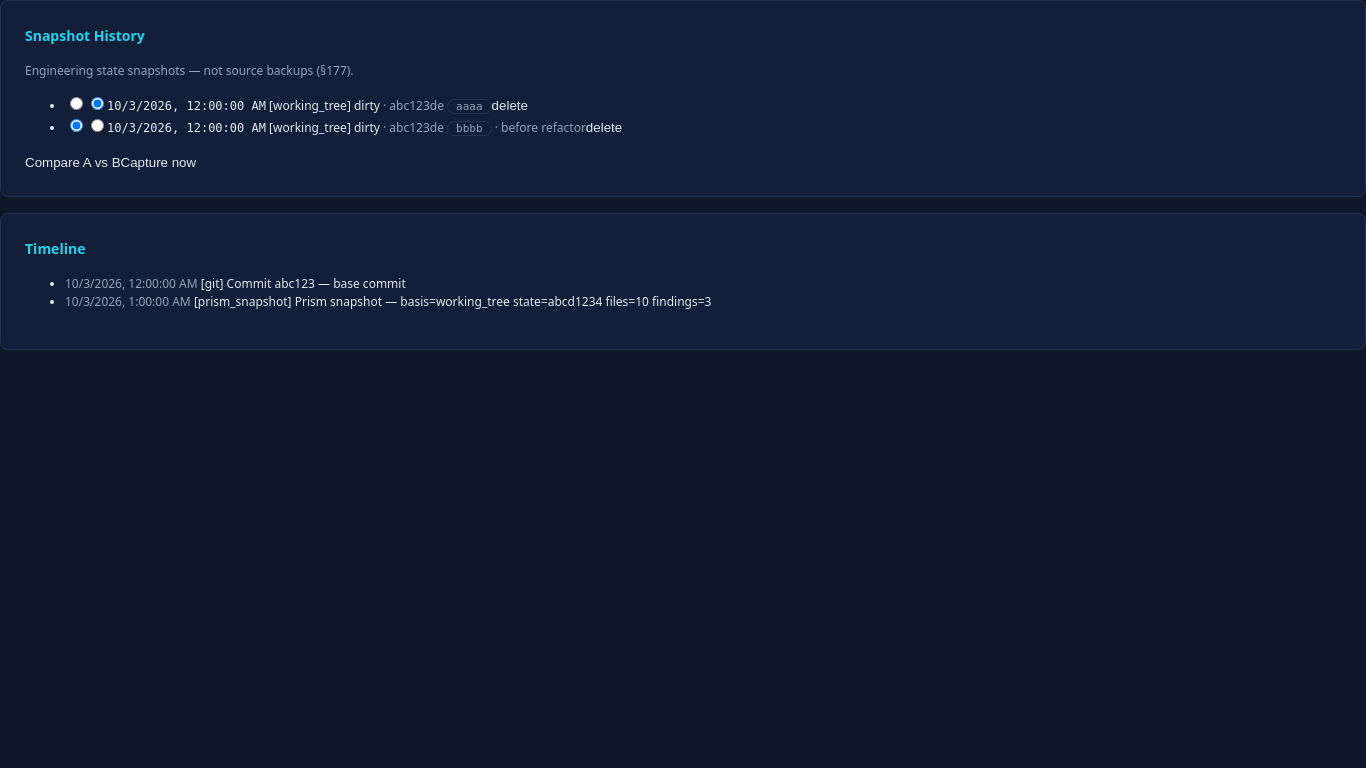
it: SnapshotHistoryPage (M11b GUI §127-§133) › compares selected A vs B with per-domain facts (§49/§95)
This screenshot has width=1366, height=768.
Expected: the element with test id "history-list" is shown, [0, 0, 1365, 197]
Click the button with test id "history-compare". click: (73, 162)
box: [25, 155, 121, 170]
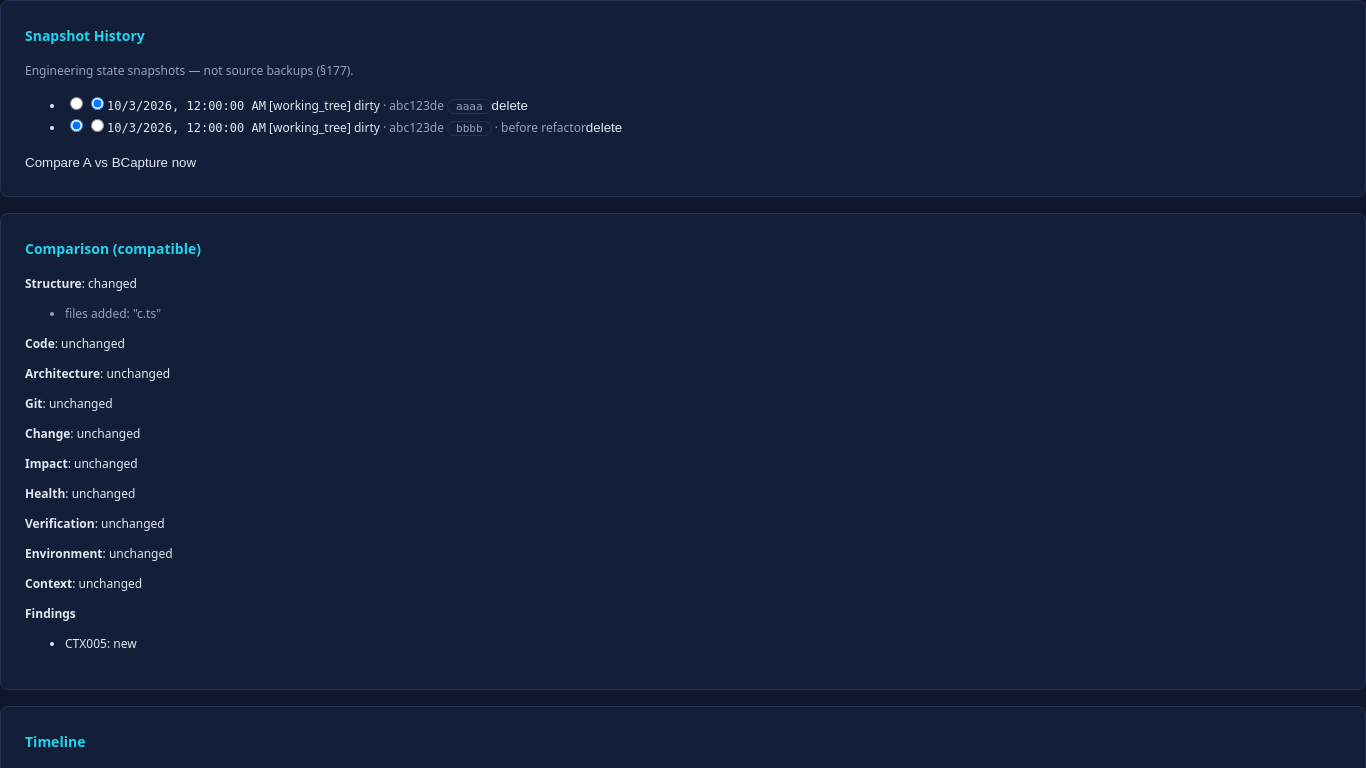
Expected: the list item "files added: \"c.ts\"" is shown, [65, 305, 161, 322]
Expected: the list item "CTX005: new" is shown, [65, 635, 137, 652]
